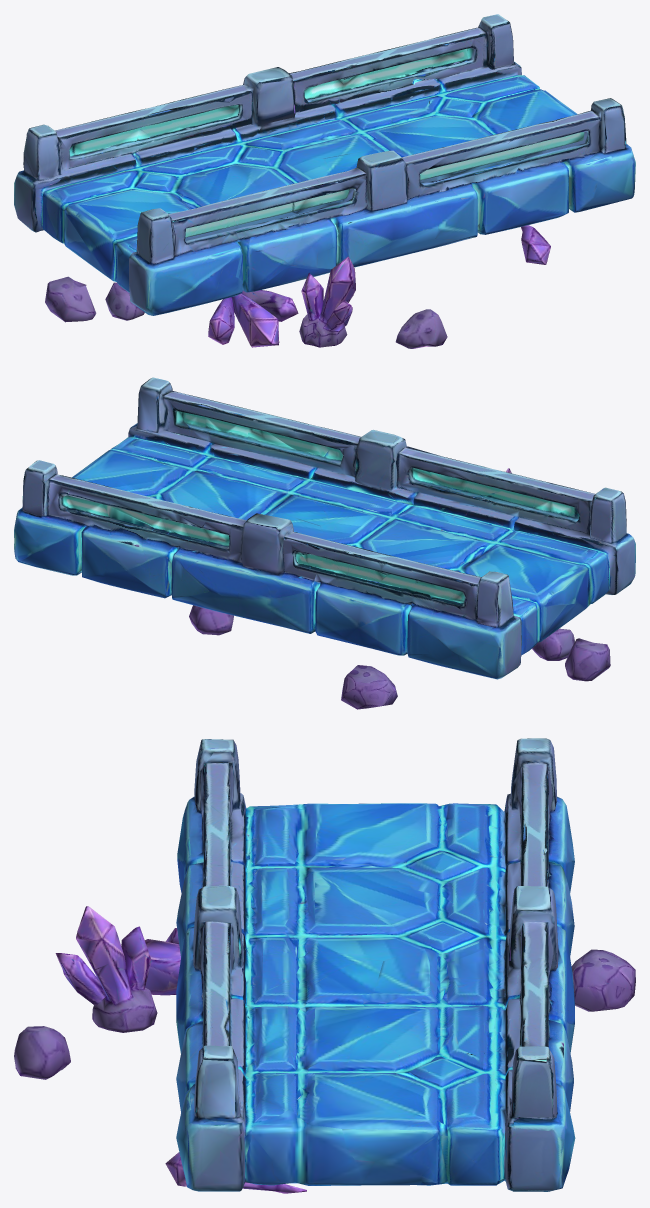
The model's file is road.glb.
3 renders of one model, top to bottom at view 1: azimuth 30°, elevation 25°; view 2: azimuth 150°, elevation 25°; view 3: azimuth 270°, elevation 25°, orthographic. The views are drawn at different scales.
Size of the model in its own units: 1.89 by 0.4668 by 1.39.
Materials: 1 (1 with a texture image).
